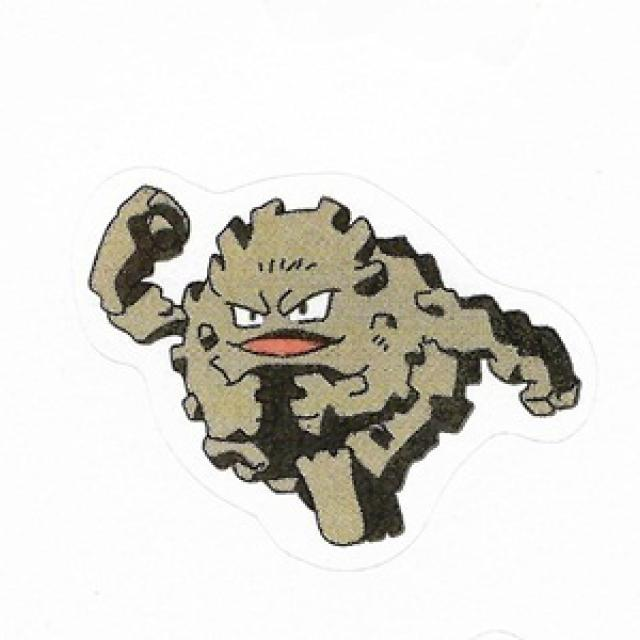Graveler: (85, 184, 571, 544)
